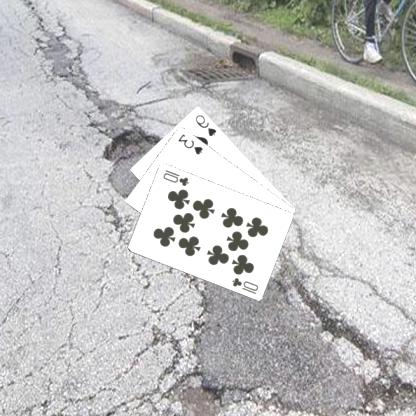10C: (162, 166, 192, 188), (231, 274, 261, 295)
3S: (177, 131, 206, 156)
9S: (195, 112, 220, 138)
